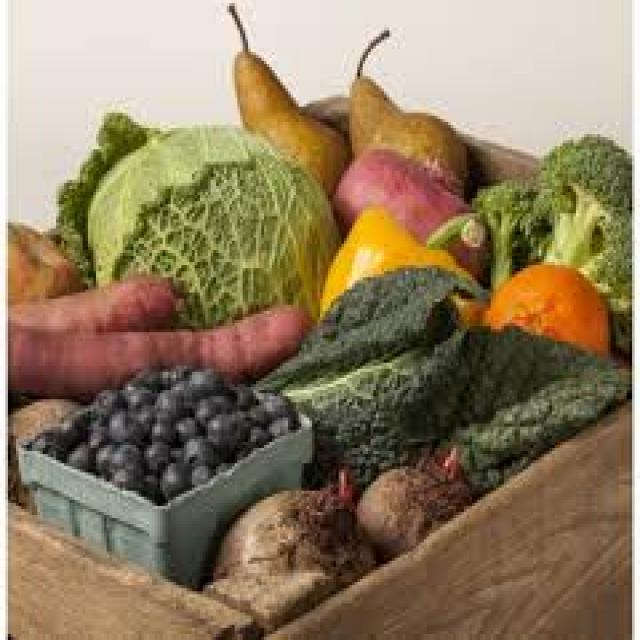organic waste: (59, 119, 341, 320), (307, 323, 629, 485), (251, 262, 485, 430), (472, 131, 637, 347), (8, 302, 309, 393), (224, 0, 347, 189), (317, 204, 483, 323), (346, 27, 466, 186), (328, 143, 477, 265), (211, 466, 368, 570), (354, 448, 466, 558), (486, 262, 606, 357), (8, 274, 176, 332), (5, 396, 80, 509), (5, 220, 86, 296), (200, 408, 240, 451), (181, 366, 224, 405), (192, 390, 229, 424), (155, 460, 189, 494), (40, 411, 77, 442), (109, 439, 139, 472), (107, 408, 136, 442), (139, 436, 165, 472), (251, 393, 288, 418), (93, 384, 123, 414), (91, 439, 120, 469), (130, 466, 154, 500), (171, 433, 205, 457), (130, 402, 154, 436), (59, 411, 85, 442), (29, 430, 62, 454), (152, 381, 181, 408), (184, 451, 216, 475), (264, 411, 296, 433), (109, 460, 136, 485), (146, 411, 170, 439), (171, 411, 197, 436), (64, 439, 91, 463), (171, 378, 197, 402), (227, 381, 250, 408), (126, 384, 150, 405), (242, 411, 258, 439), (134, 366, 158, 384), (85, 417, 104, 439), (117, 375, 144, 390), (160, 366, 181, 378)
